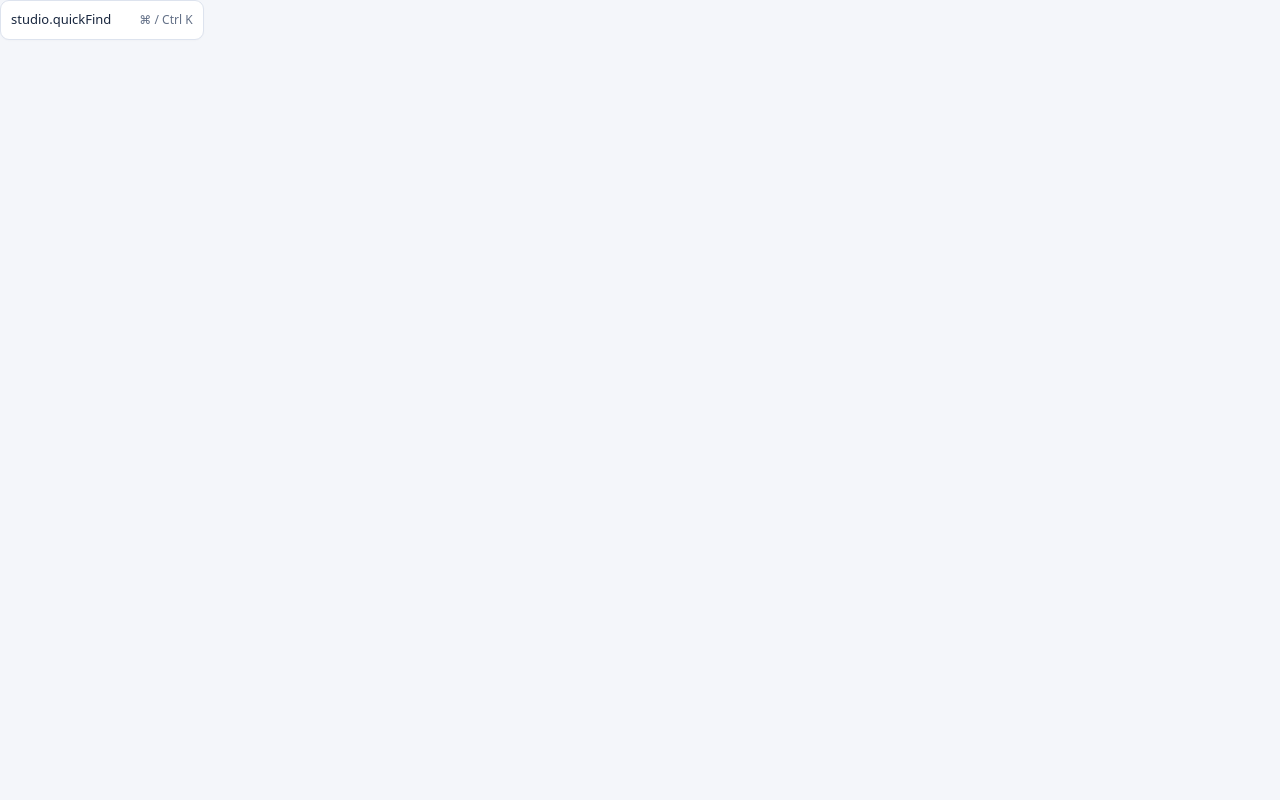
it: opens from the keyboard, filters the permitted destinations and navigates with Enter
This screenshot has width=1280, height=800.
Press k
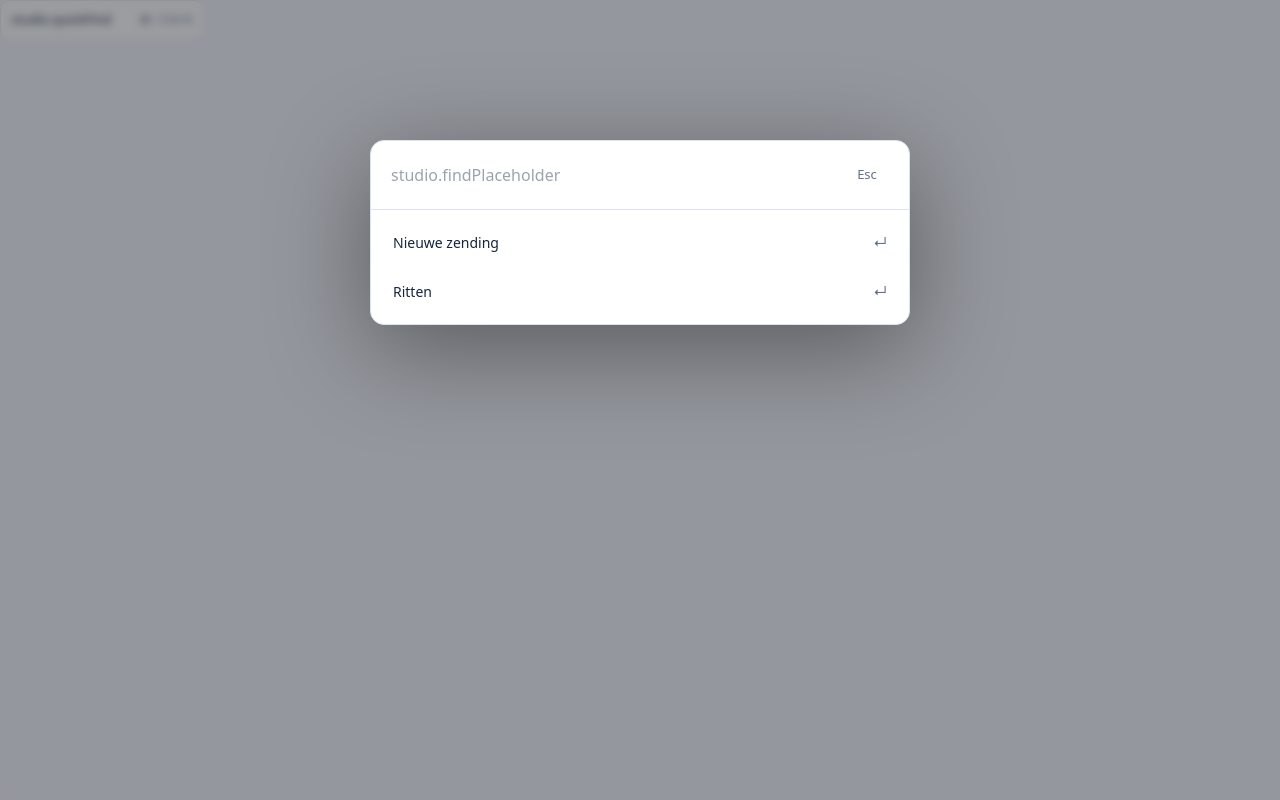
Type "ritten" into the field named "studio.quickFind". click: x=610, y=175
box: [391,153,829,197]
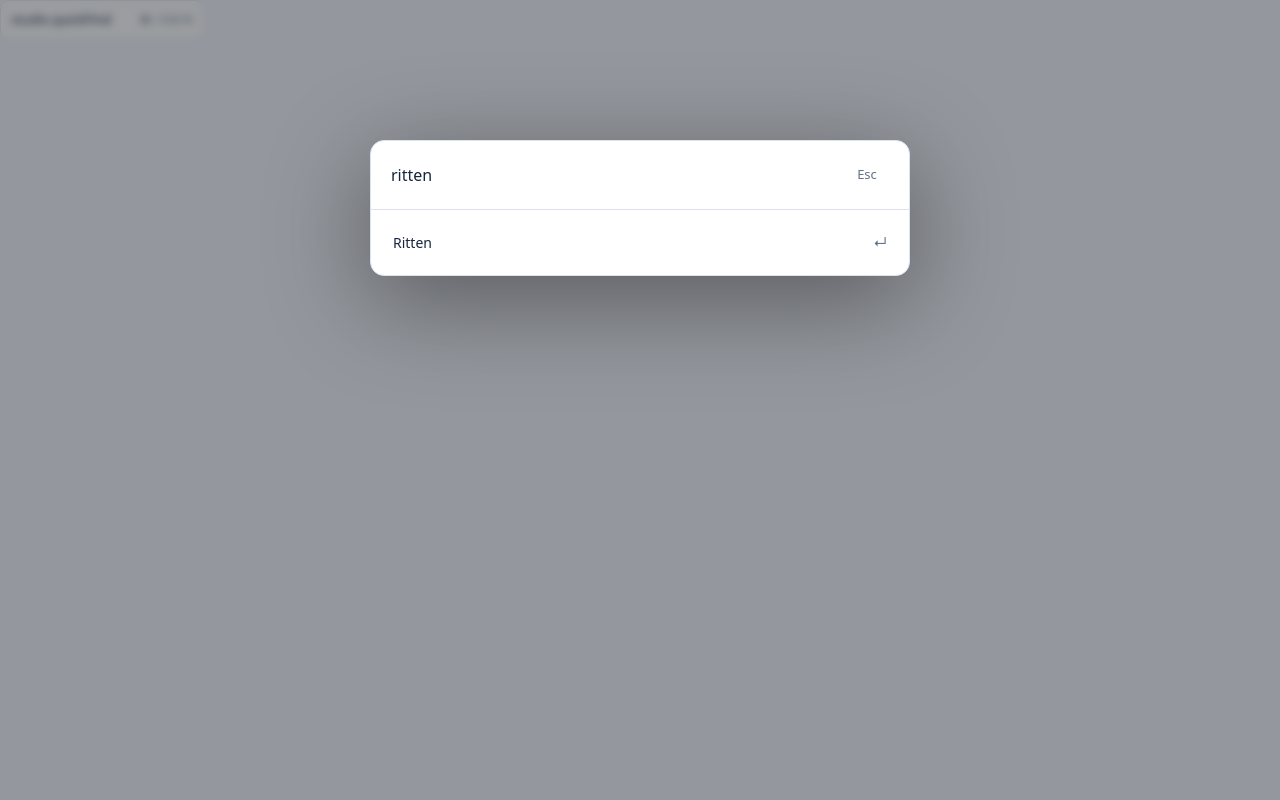
expect the button "Nieuwe zending" is gone: met
Press Enter
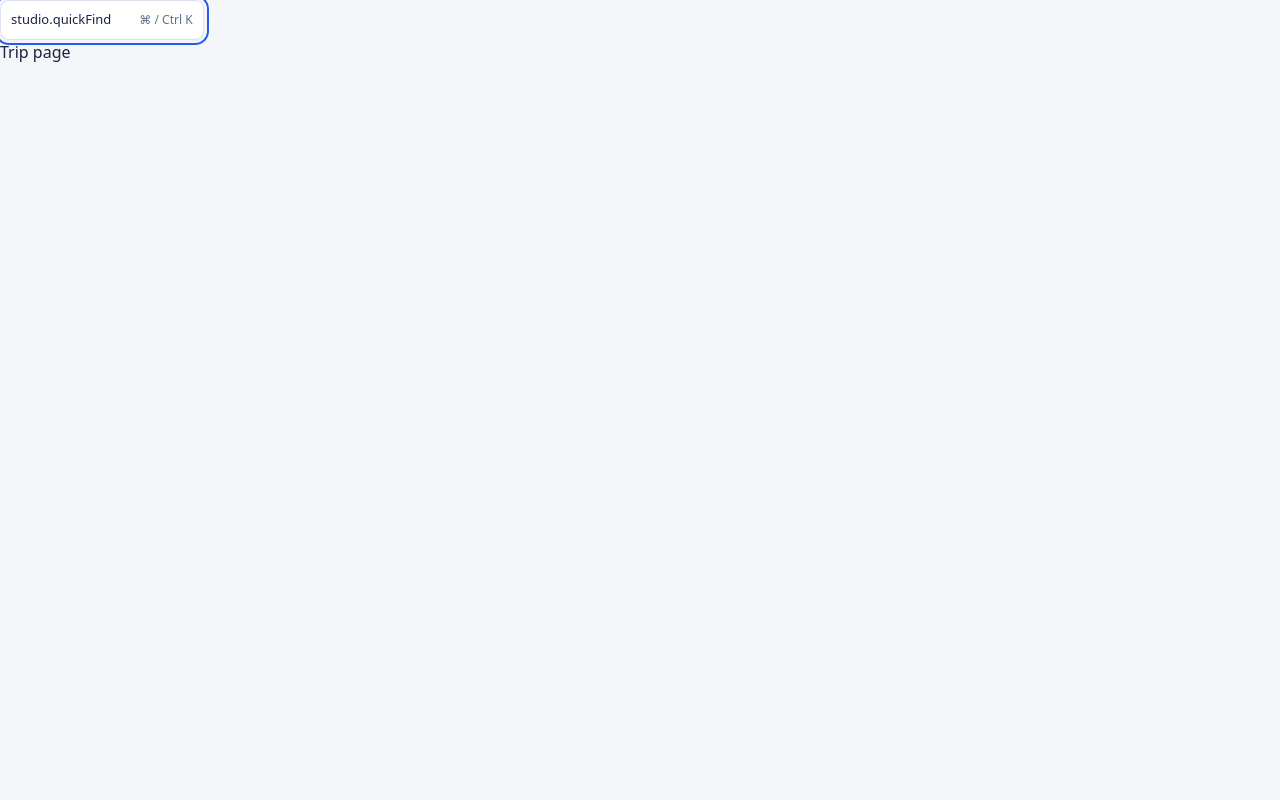
expect the text "Trip page" is shown: met, box [0,41,70,63]
